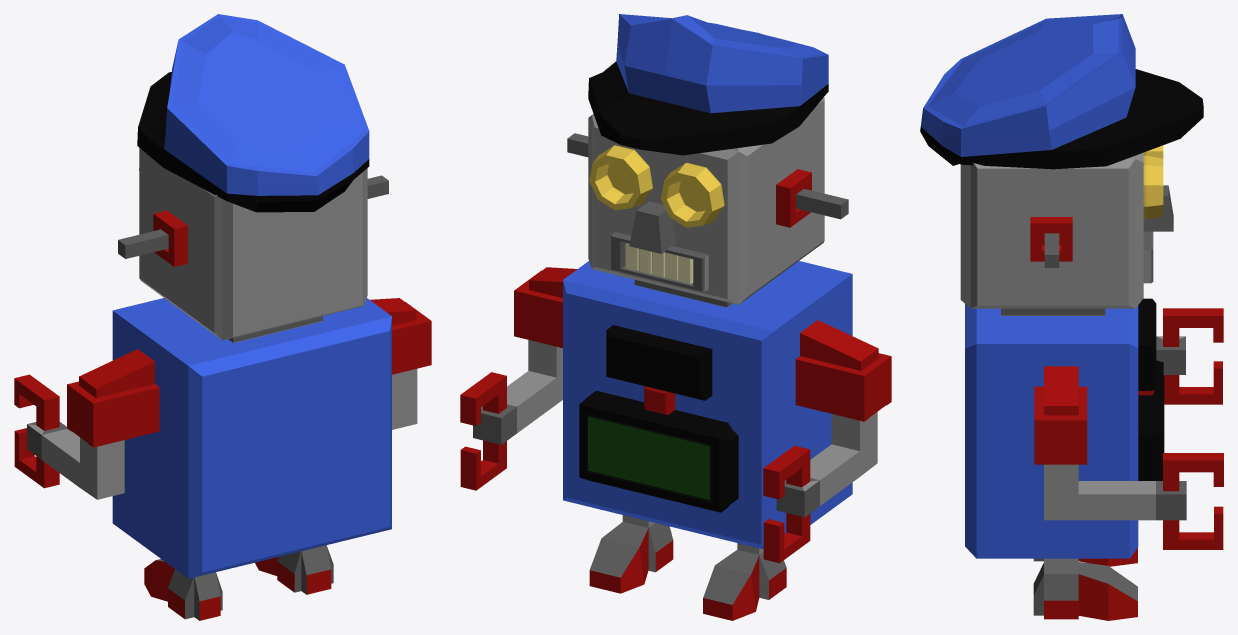
File: RobotcopRIG.fbx
3 views of the same model, side by side, from view 1: azimuth 30°, elevation 25°; view 2: azimuth 150°, elevation 25°; view 3: azimuth 270°, elevation 25° (orthographic). The views are drawn at different scales.
Parts seen in each view (by area): view 1: Robot, Leg.L, Leg.R; view 2: Robot, Leg.R, Leg.L; view 3: Robot, Leg.R, Leg.L.
Part boxes in pixels (bbox=[...]): Robot: bbox=[14, 14, 431, 578]; Leg.L: bbox=[144, 559, 222, 620]; Leg.R: bbox=[255, 545, 333, 594]; Robot: bbox=[460, 14, 891, 563]; Leg.R: bbox=[589, 515, 673, 593]; Leg.L: bbox=[703, 543, 786, 620]; Robot: bbox=[920, 14, 1223, 558]; Leg.R: bbox=[1033, 558, 1137, 620]; Leg.L: bbox=[1033, 548, 1137, 566].
Size of the model in its own units: 331 by 523 by 255.
